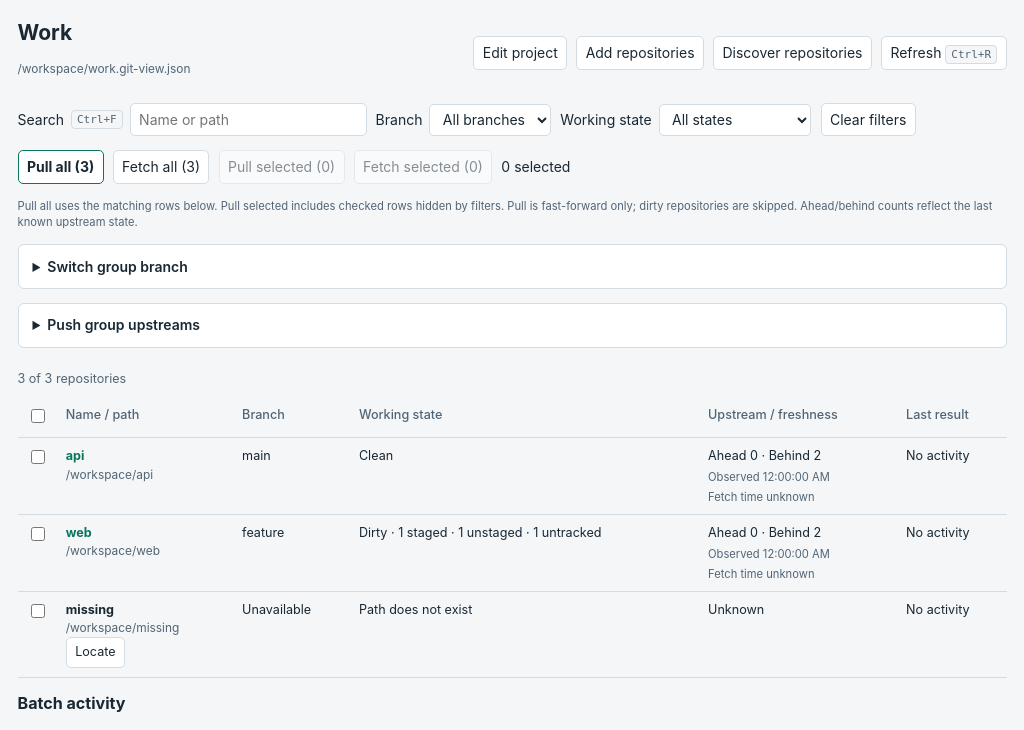
Scenario: GroupView renderer › includes hidden selected push members and blocks publishing while project edits are unsaved
Click the heading "Push group upstreams".
click(124, 325)  # box [47, 316, 200, 333]
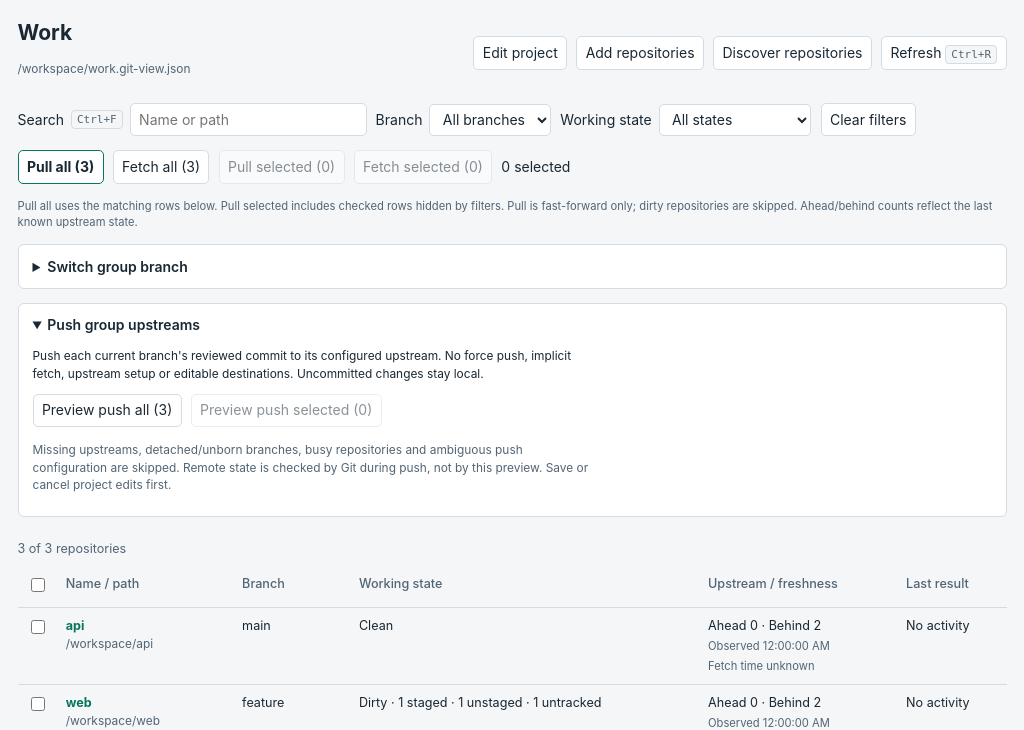
Click the checkbox named "Select web".
click(38, 704)  # box [31, 697, 45, 711]
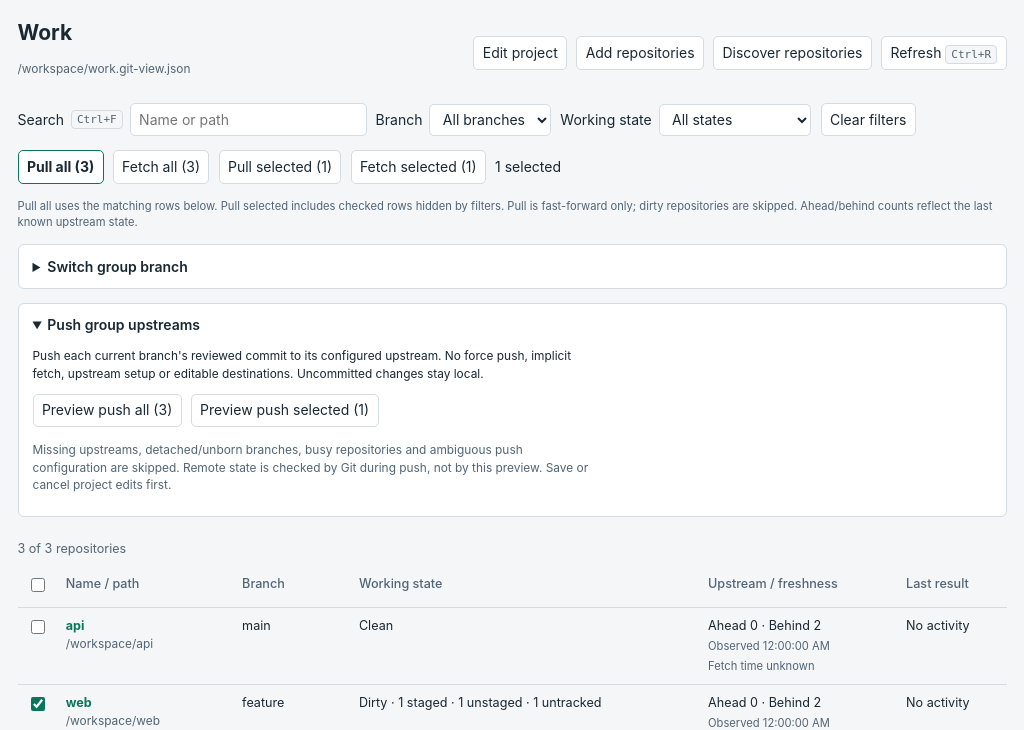
Select "main" in the dropdown labelled "Branch" at (490, 120), box [429, 104, 551, 136]
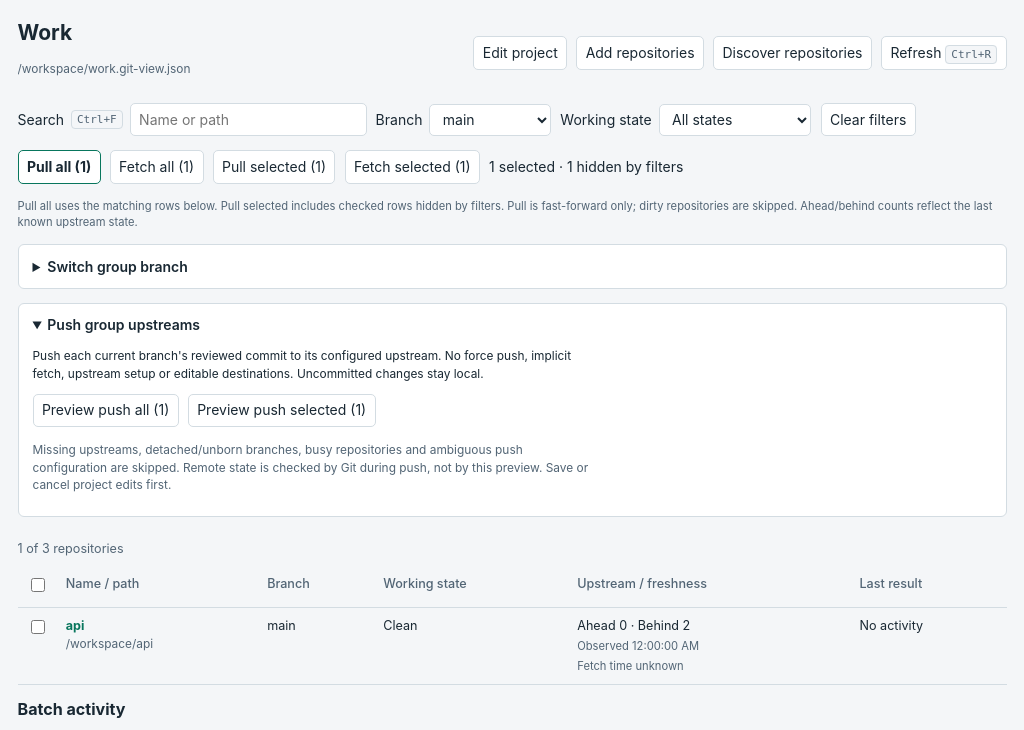
Click the button "Preview push selected (1)".
click(282, 411)  # box [188, 394, 376, 427]
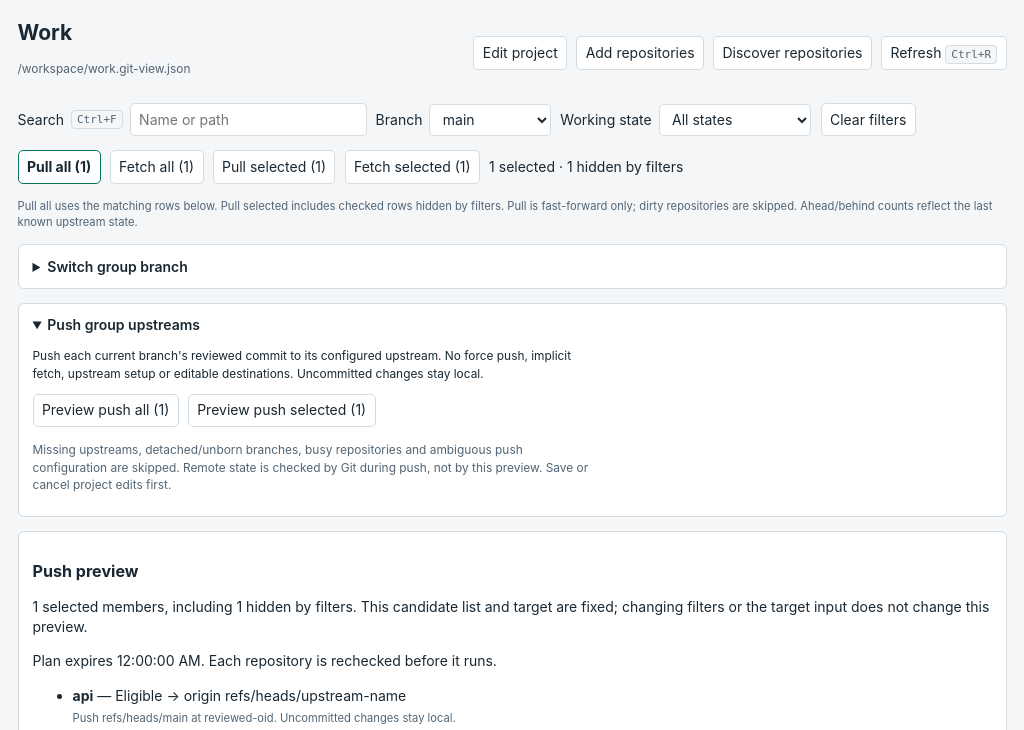
Click the button "Edit project".
click(520, 53)  # box [473, 36, 567, 70]
(page scrolled)
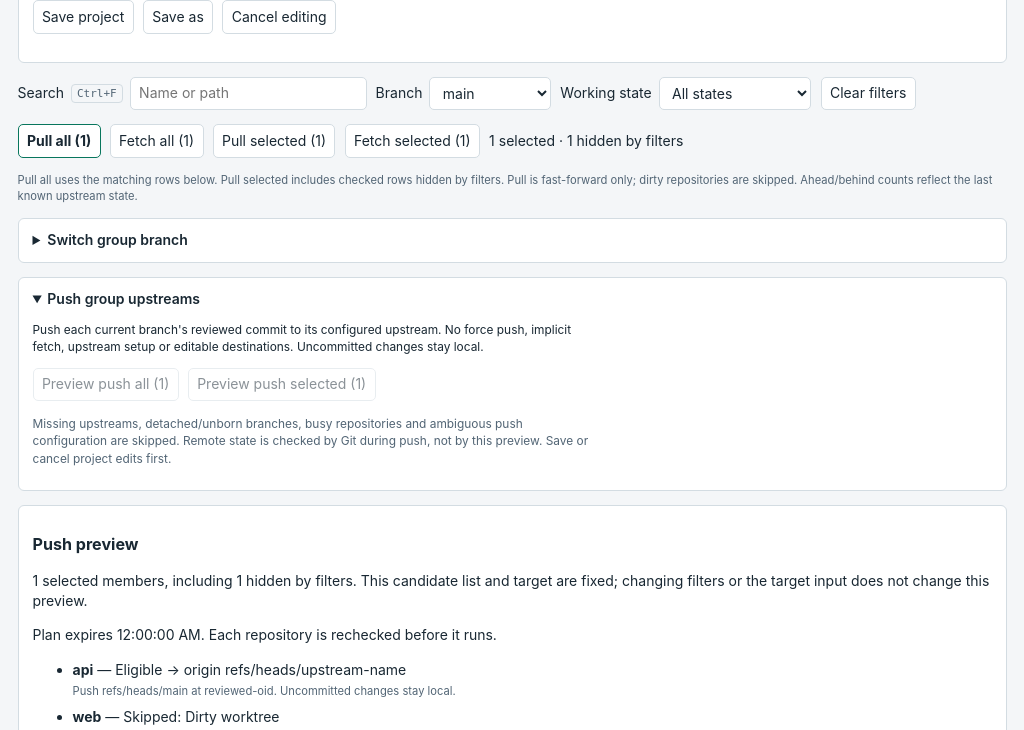
Check: the button "Preview push all (1)" is disabled, box [32, 368, 179, 401]
